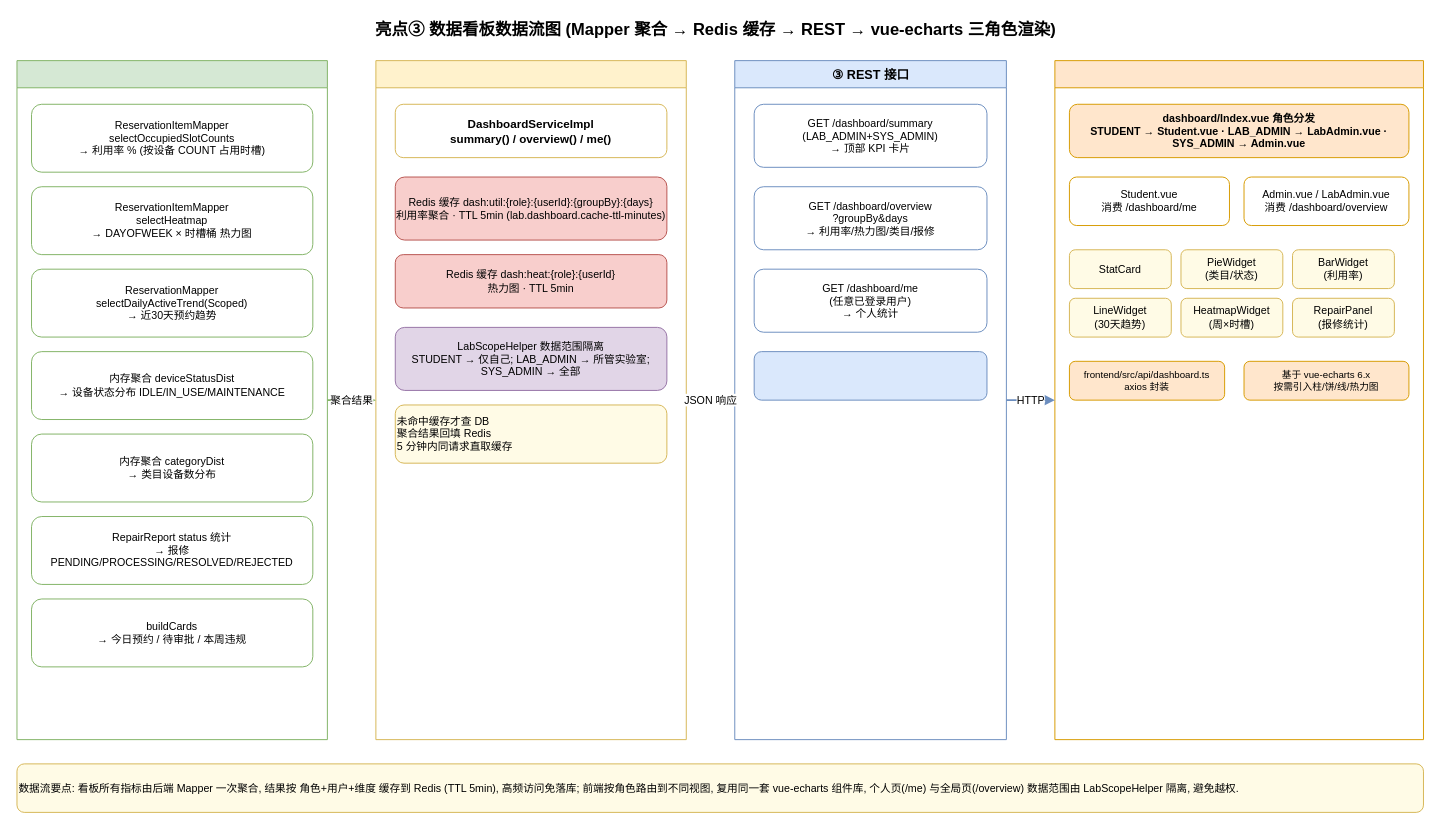
The diagram is 1440 pixels wide and 829 high, and some of its shapes have lost their labels. The box of each missing label's shape, as (x1, y1, x2, y2) in pixels:
DashboardController @PreAuthorize 鉴权: (753, 351, 987, 400)
① 数据源 / Mapper 聚合: (16, 60, 327, 740)
② 业务聚合 + Redis 缓存: (375, 60, 686, 740)
④ 前端 vue-echarts 渲染: (1054, 60, 1423, 740)
